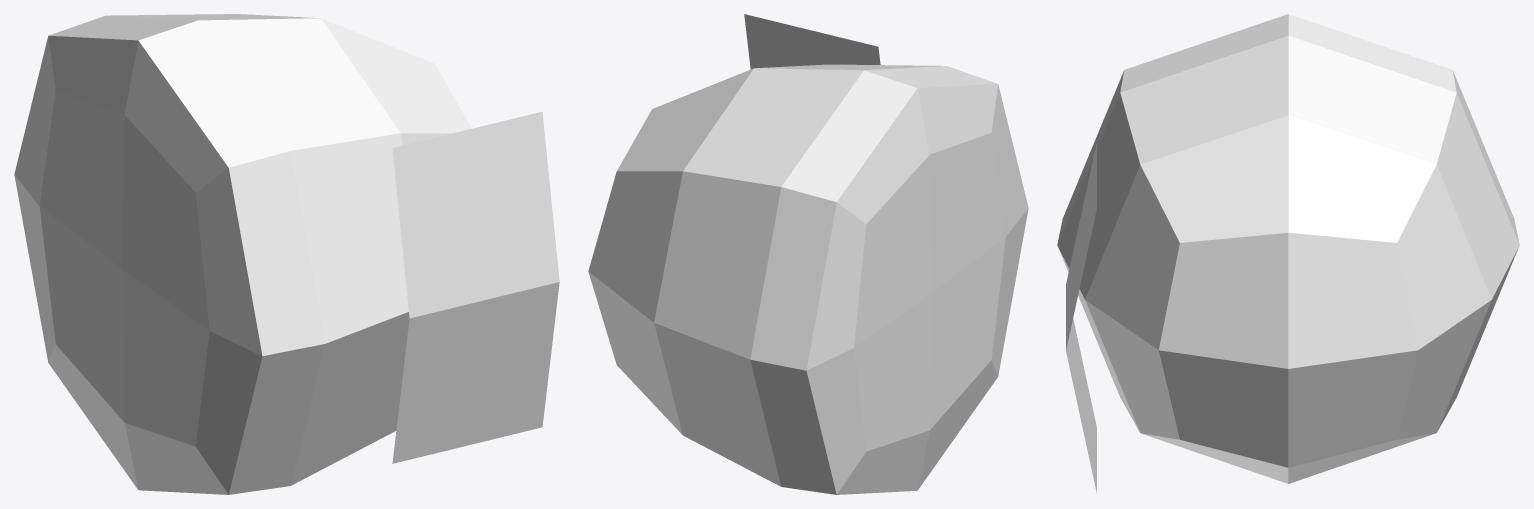
File: slime.fbx
3 views of the same model, side by side, from view 1: azimuth 30°, elevation 25°; view 2: azimuth 150°, elevation 25°; view 3: azimuth 270°, elevation 25° (orthographic). The views are drawn at different scales.
Parts seen in each view (by area): view 1: slime; view 2: slime; view 3: slime.
Boxes of the visible parts, <box> form: slime: <box>14,14,559,494</box>; slime: <box>588,14,1028,494</box>; slime: <box>1057,14,1519,493</box>.
Bounding box in the file's own units: 139 × 172 × 172.
